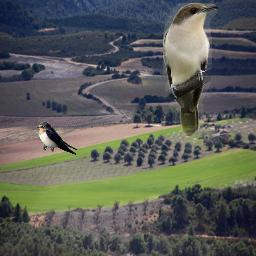Cuckoo: (163, 3, 220, 139)
Swallow: (36, 121, 78, 156)
